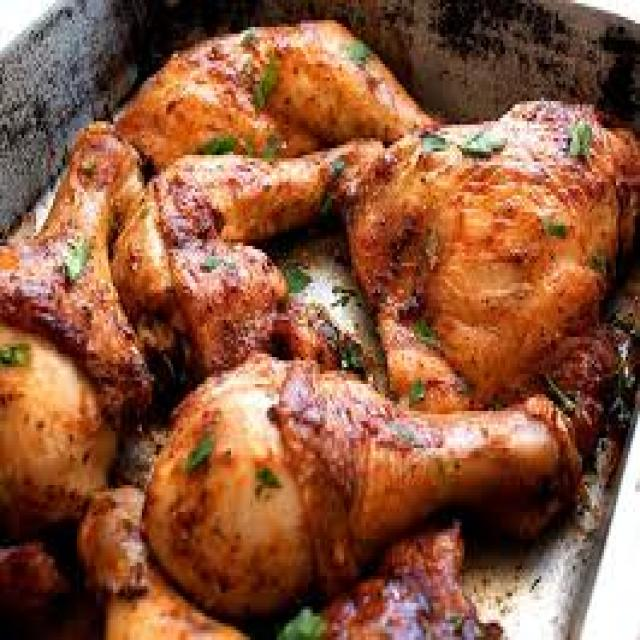Frango: (7, 27, 628, 640)
